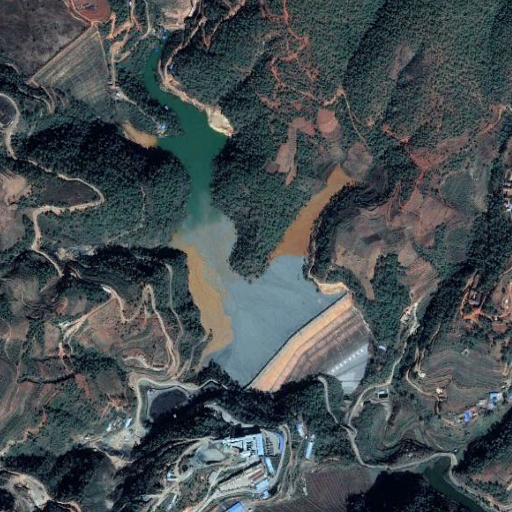tp: (129, 45, 372, 397)
